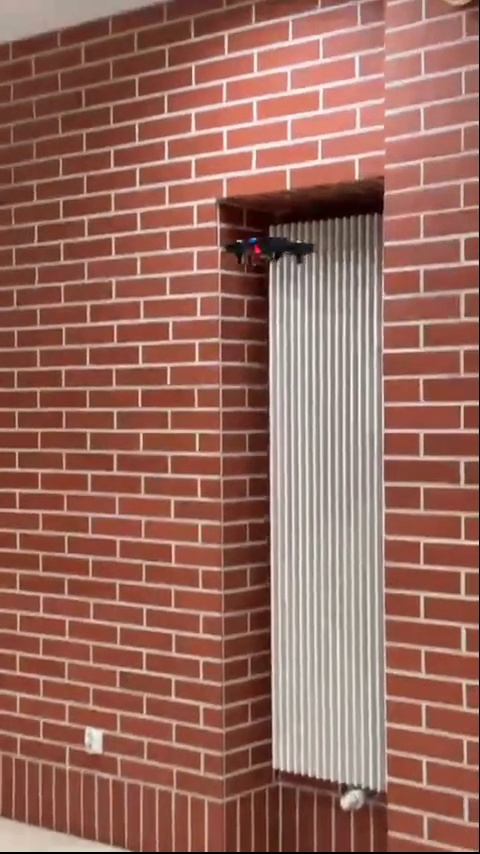drone: (217, 229, 316, 266)
